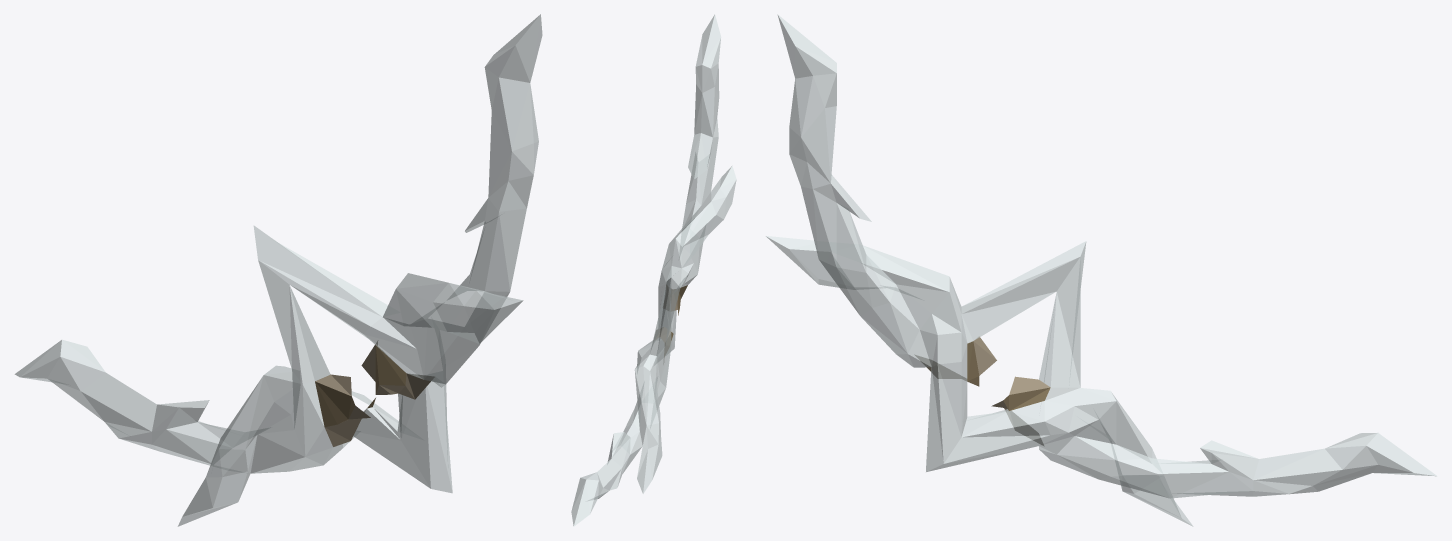
The model's file is player_bow_of_faerdhinen.glb.
The picture shows the model from 3 angles, left to right: view 1: azimuth 30°, elevation 25°; view 2: azimuth 150°, elevation 25°; view 3: azimuth 270°, elevation 25°; orthographic projection. The views are drawn at different scales.
Bounding box in the file's own units: 25.99 × 104 × 113.
2 materials, 2 textured.
